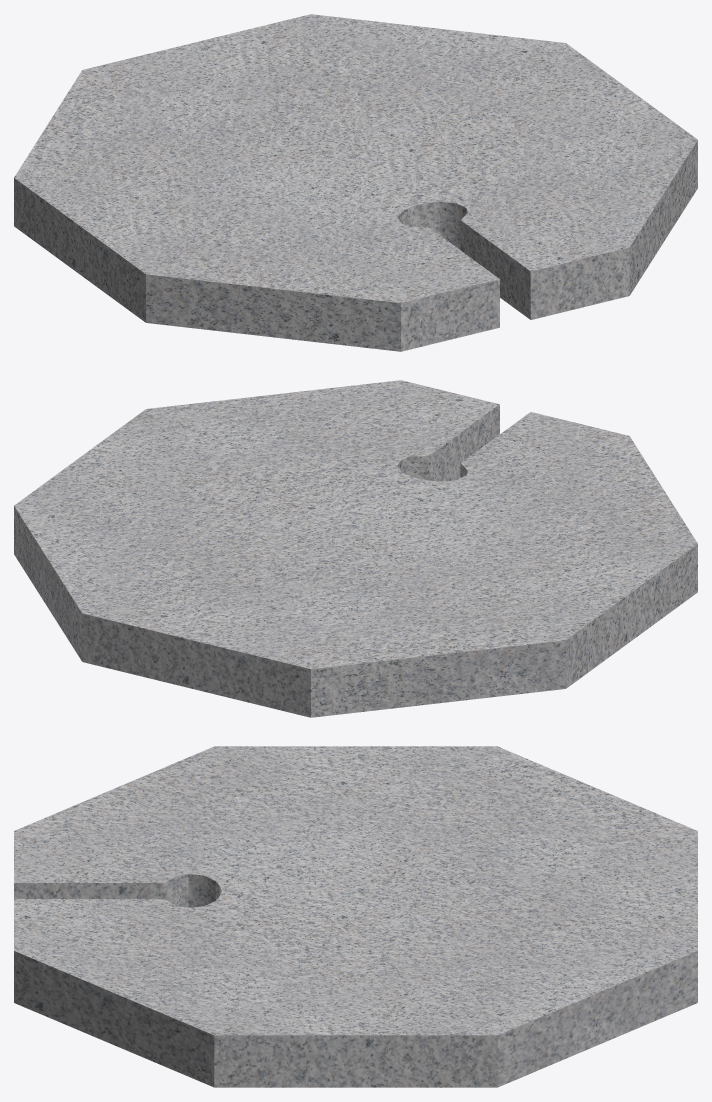
The model's file is SM_S_Octagonal.fbx.
3 renders of one model, top to bottom at view 1: azimuth 30°, elevation 25°; view 2: azimuth 150°, elevation 25°; view 3: azimuth 270°, elevation 25°, orthographic. The views are drawn at different scales.
Visible parts, largest first — view 1: SM_S_Octagonal; view 2: SM_S_Octagonal; view 3: SM_S_Octagonal.
Boxes of the visible parts, <box> form: SM_S_Octagonal: <box>14,14,697,351</box>; SM_S_Octagonal: <box>14,380,697,717</box>; SM_S_Octagonal: <box>14,746,697,1087</box>.
Size of the model in its own units: 554 by 554 by 46.56.
1 material, 1 textured.
